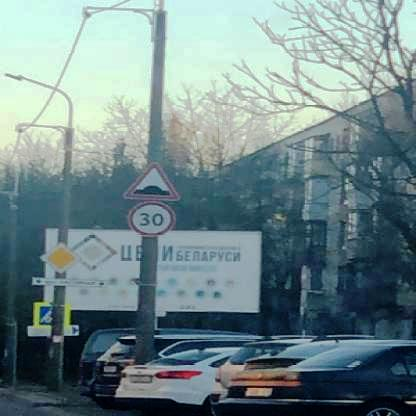Speed Limit -30-: (128, 197, 176, 240)
